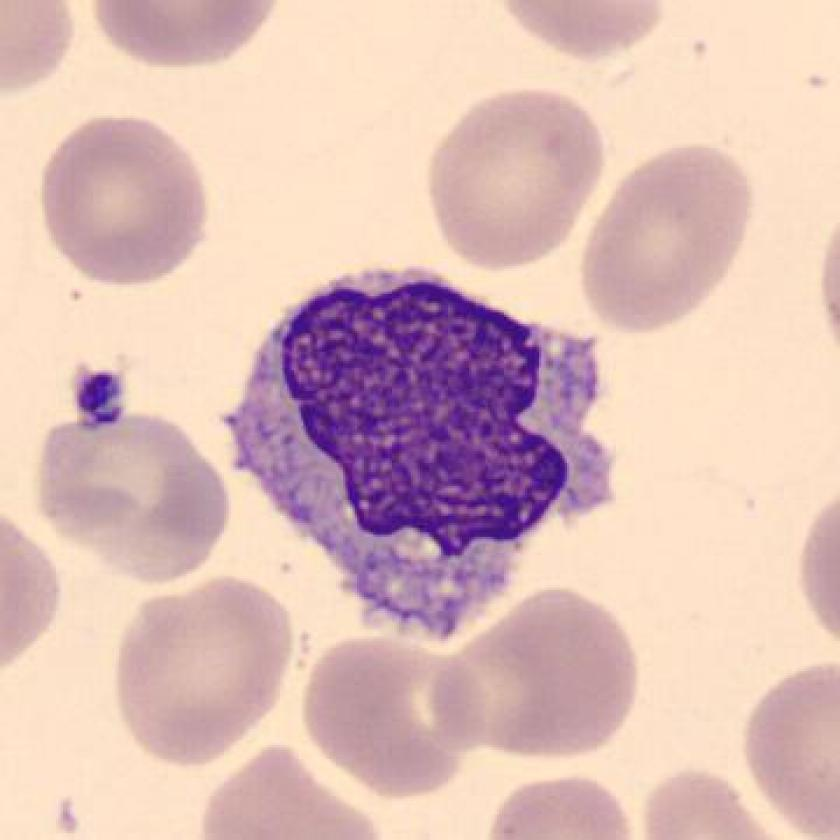monocyte: (214, 251, 641, 672)
